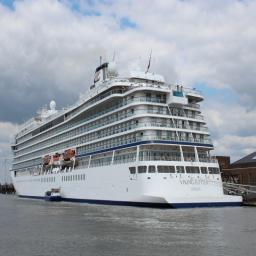cruises: (10, 49, 245, 214)
